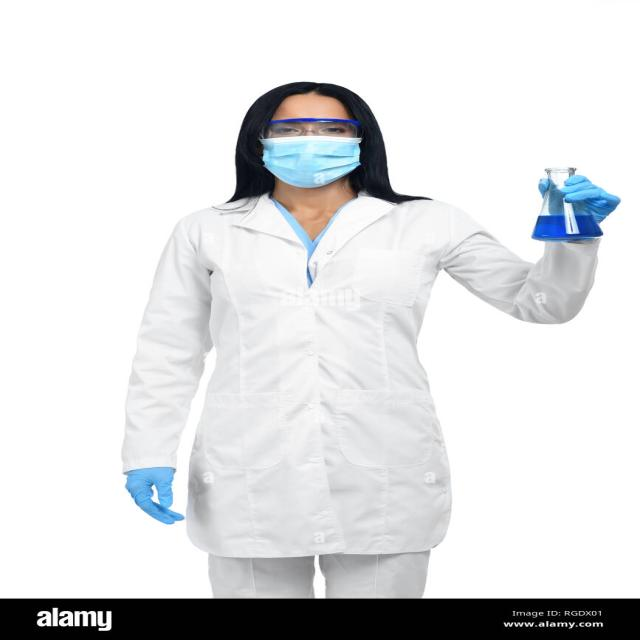Gloves: (103, 458, 204, 542), (529, 160, 634, 238)
Mask: (236, 126, 383, 200)
